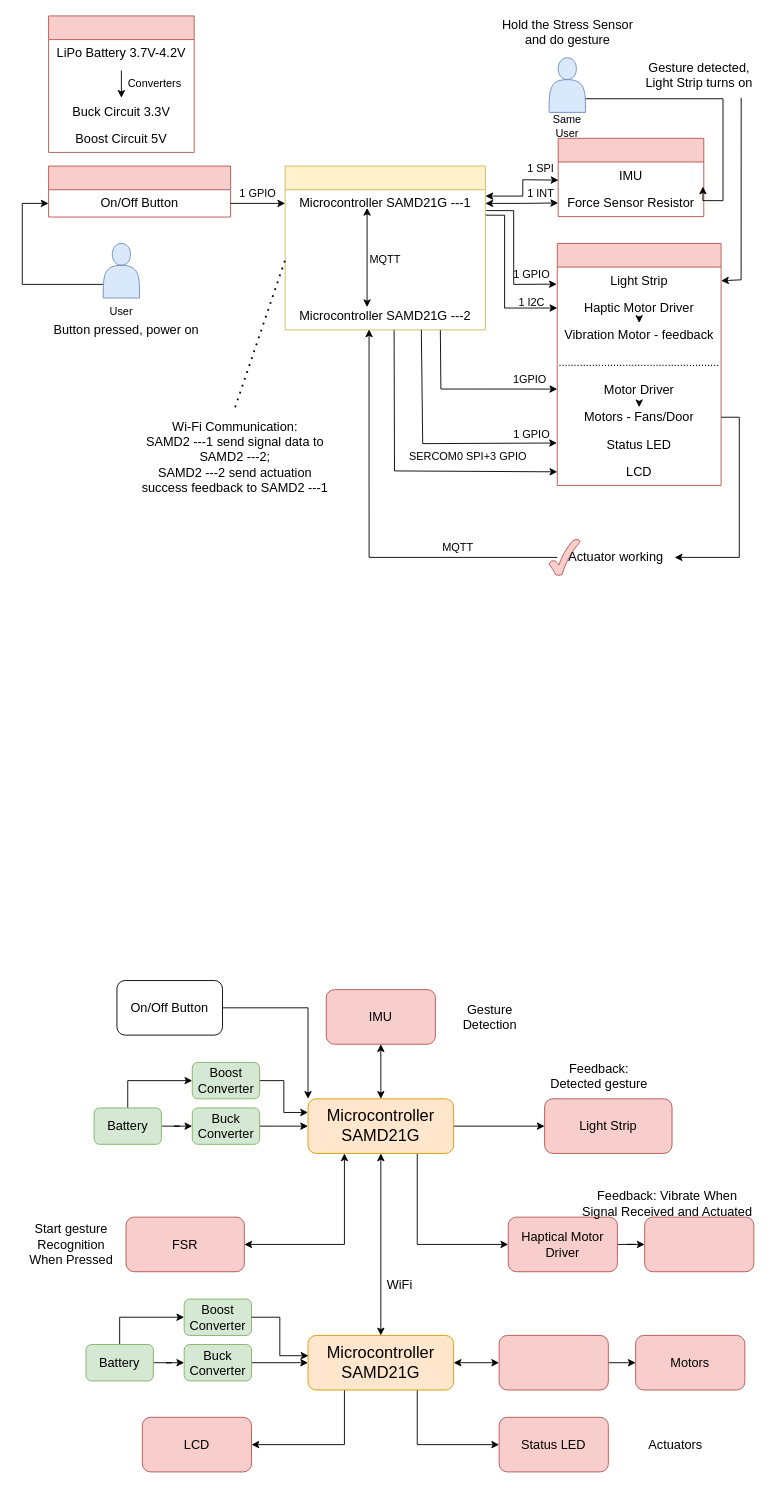
This 774x1488 diagram has some shape labels left out. The shapes that lost their labels are listed below. From the top down, each one's box as (x1, y1, x2, y2) in pixels, then its label:
(48, 15, 194, 152): Power
(48, 165, 231, 217): Physical User Interface
(557, 137, 704, 217): Sensors
(284, 165, 485, 330): Microcontrollor
(556, 243, 721, 485): Actuator
(644, 1216, 754, 1272): Vibration Motor
(498, 1335, 608, 1390): Motor Dirver
